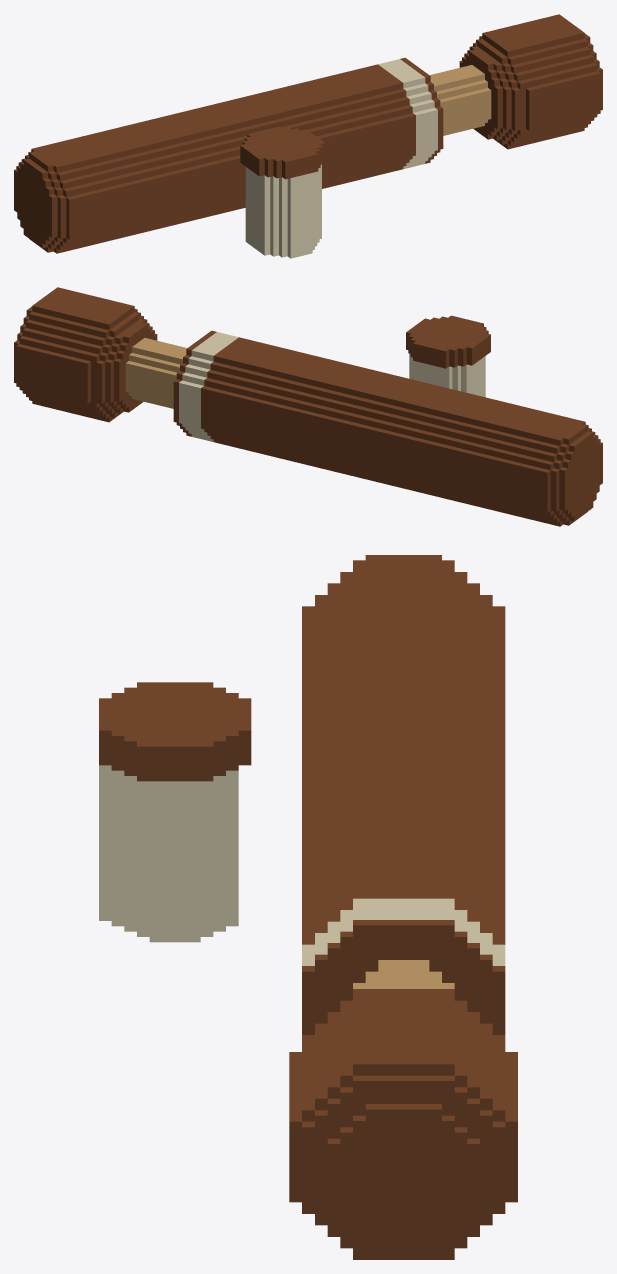
The model's file is fire_piston.glb.
3 views of the same model, one above another, from view 1: azimuth 30°, elevation 25°; view 2: azimuth 150°, elevation 25°; view 3: azimuth 270°, elevation 25° (orthographic). The views are drawn at different scales.
Parts seen in each view (by area): view 1: fire_piston:compound; view 2: fire_piston:compound; view 3: fire_piston:compound.
Boxes of the visible parts, x1=… form: fire_piston:compound: x1=14, y1=14, x2=602, y2=258; fire_piston:compound: x1=14, y1=287, x2=602, y2=526; fire_piston:compound: x1=99, y1=555, x2=517, y2=1259.
Bounding box in the file's own units: 0.2 × 0.036 × 0.066.
